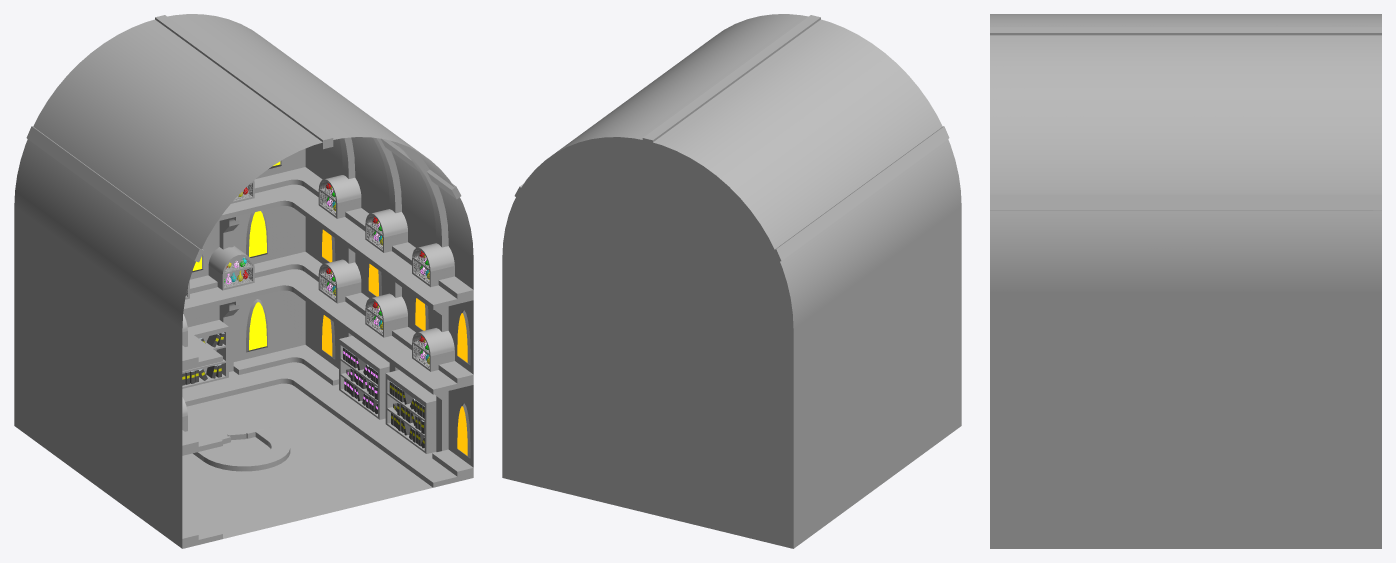
The model's file is shoppe_magic.fbx.
3 renders of one model, left to right at view 1: azimuth 30°, elevation 25°; view 2: azimuth 150°, elevation 25°; view 3: azimuth 270°, elevation 25°, orthographic. The views are drawn at different scales.
Visible parts, largest first — view 1: shoppe_magic, floor (×2), pCube26, beam_window, bent_beam1, cabinet_full7 (×2), cabinet_full9 (×2), cabinet_full8 (×2), bent_beam2, bent_beam3, counter_corner2 (×2), shelf2_9 (+11 smaller); view 2: shoppe_magic, beam_window, shelf2_6, shelf2_7, floor, bent_beam2, bent_beam3, bent_beam1, pCube26; view 3: shoppe_magic, beam_window, floor (×2), bent_beam1, bent_beam3, bent_beam2, cabinet_full8, cabinet_full9, cabinet_full7, counter_corner2.
Part boxes in pixels (x1,y1,x2,y2): shoppe_magic: (14, 14, 473, 548); floor (×2): (36, 184, 473, 455); pCube26: (28, 362, 473, 548); beam_window: (26, 15, 461, 371); bent_beam1: (151, 114, 448, 529); cabinet_full7 (×2): (318, 175, 361, 303); cabinet_full9 (×2): (412, 243, 454, 371); cabinet_full8 (×2): (365, 209, 407, 337); bent_beam2: (105, 80, 401, 487); bent_beam3: (58, 46, 355, 454); counter_corner2 (×2): (254, 167, 322, 281); shelf2_9: (385, 370, 436, 453); shoppe_magic: (502, 14, 961, 548); beam_window: (514, 15, 949, 530); shelf2_6: (656, 464, 704, 519); shelf2_7: (591, 449, 639, 503); floor: (510, 243, 961, 370); bent_beam2: (645, 66, 889, 468); bent_beam3: (600, 100, 842, 294); bent_beam1: (701, 34, 936, 222); pCube26: (502, 421, 961, 548); shoppe_magic: (990, 14, 1381, 548); beam_window: (990, 27, 1381, 210); floor (×2): (990, 336, 1381, 440); bent_beam1: (1048, 14, 1062, 548); bent_beam3: (1266, 14, 1279, 513); bent_beam2: (1157, 14, 1170, 520); cabinet_full8: (1142, 299, 1185, 335); cabinet_full9: (1034, 299, 1076, 335); cabinet_full7: (1251, 299, 1294, 335); counter_corner2: (1295, 330, 1381, 335).
Bounding box in the file's own units: 18 × 22.11 × 18.
